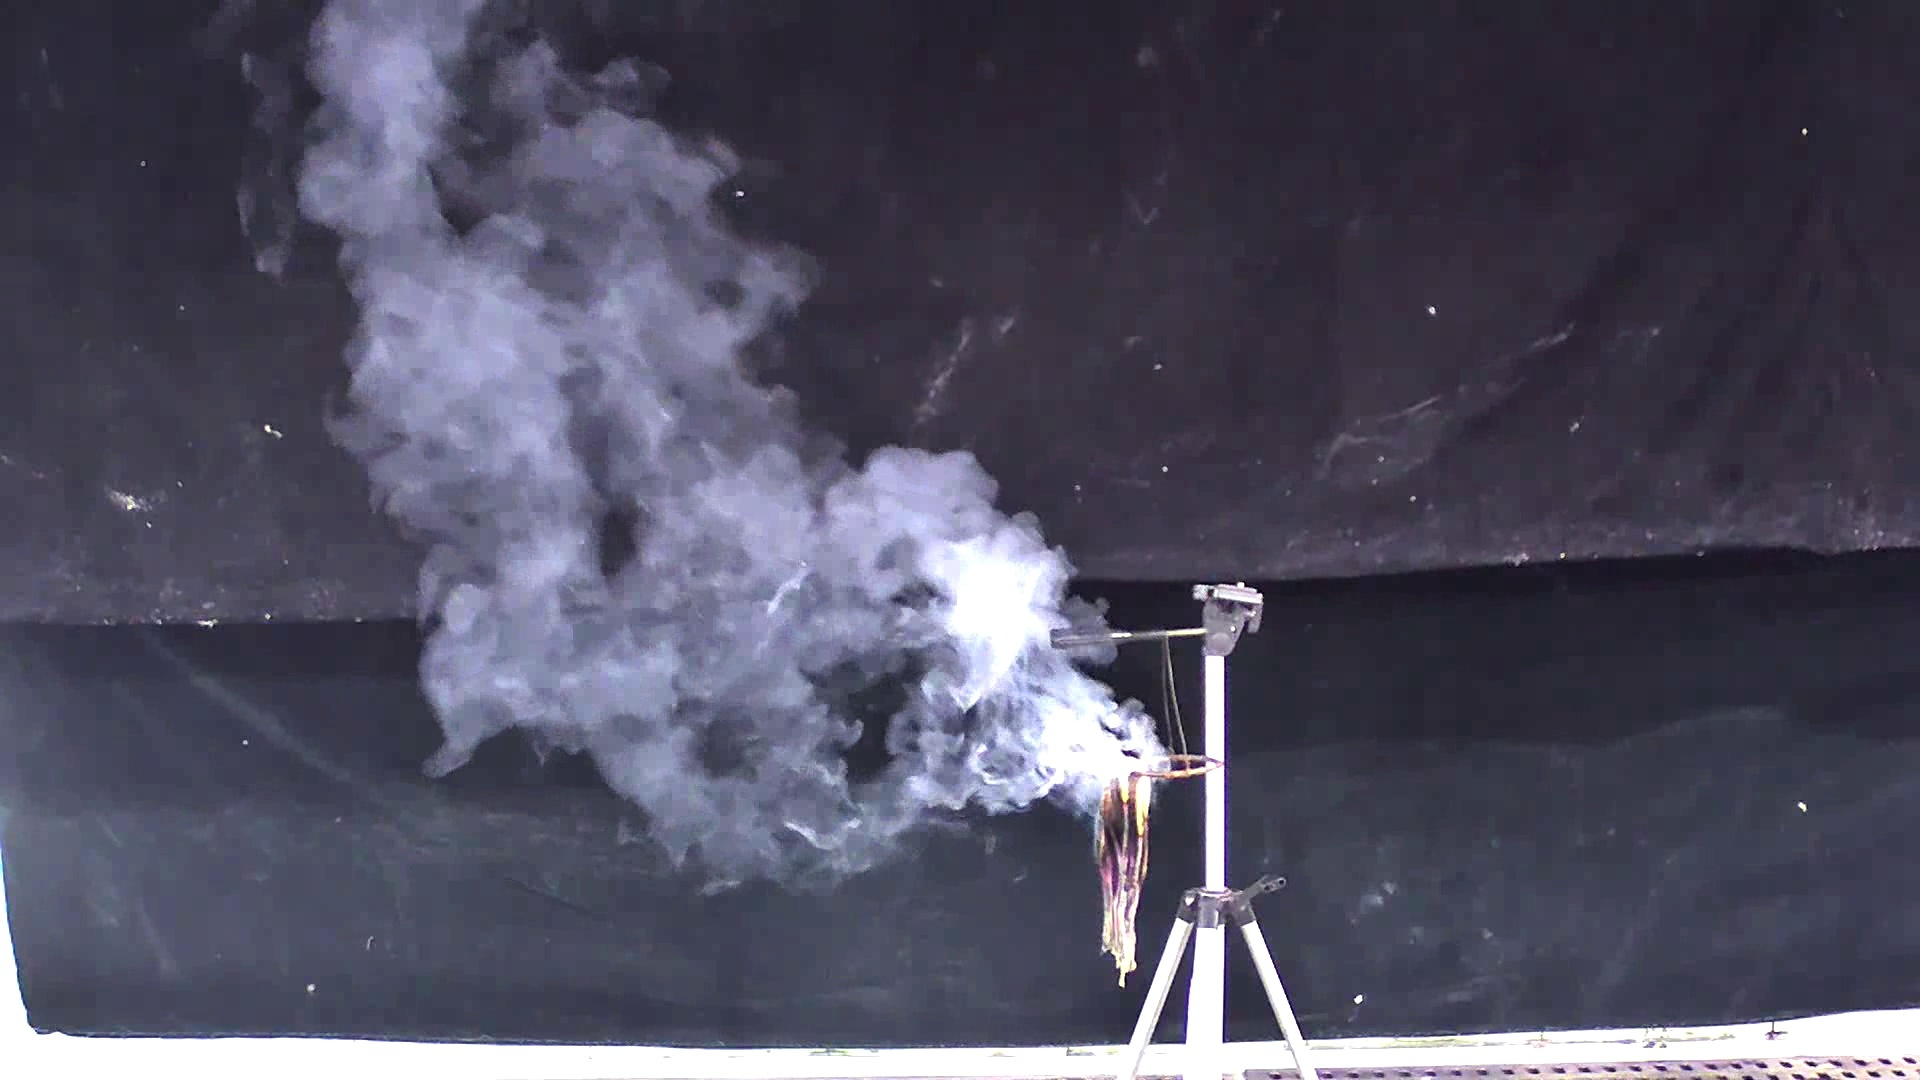smoke: (273, 13, 1183, 884)
